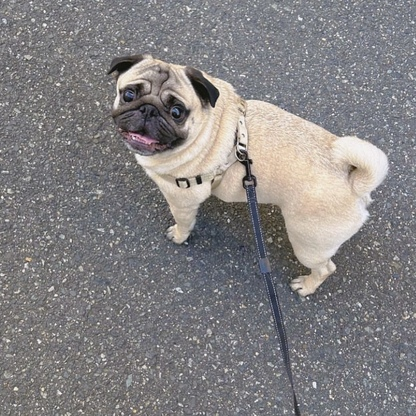Pug: (100, 49, 394, 302)
